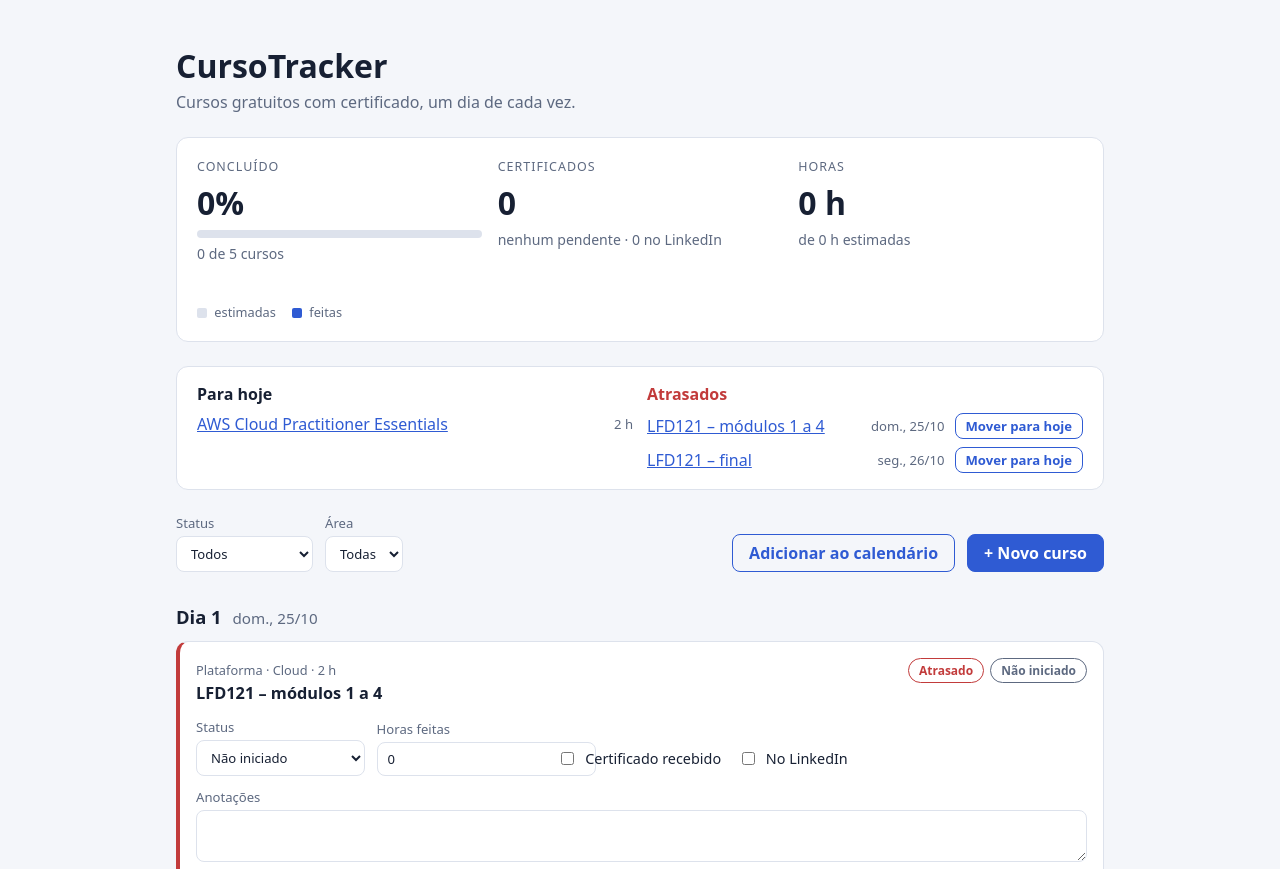
Scenario: Tracker › shows today and overdue courses and moves an overdue course to today
This screenshot has width=1280, height=869.
Expected: the link "AWS Cloud Practitioner Essentials" is shown, x1=197 y1=413 x2=448 y2=435
What coordinates should you click on to do the following:
click the 1st button "Mover para hoje"
I would click on:
 (1019, 426)
Its box is x1=954 y1=413 x2=1083 y2=439.
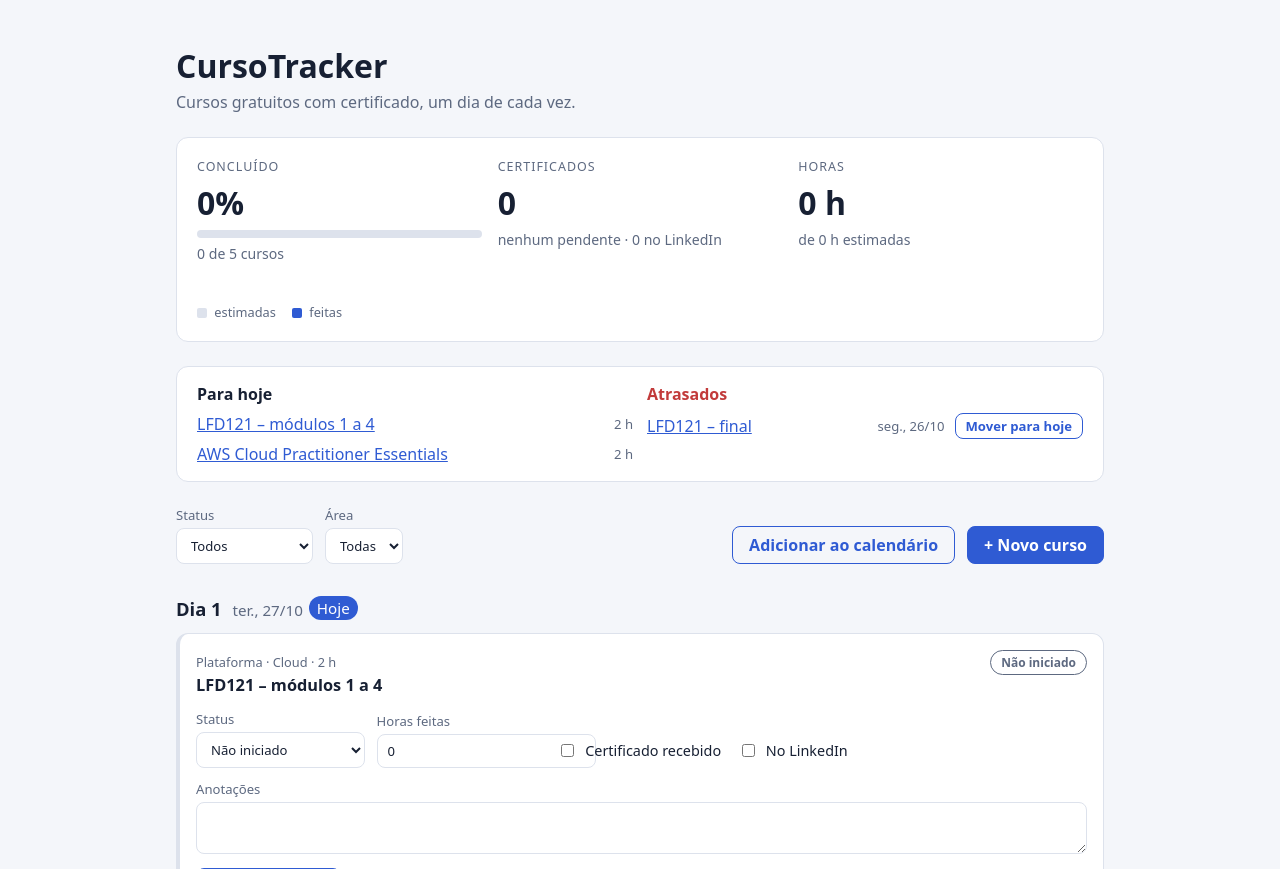
Now the number of buttons "Mover para hoje" is 1, box x1=954 y1=413 x2=1083 y2=439
